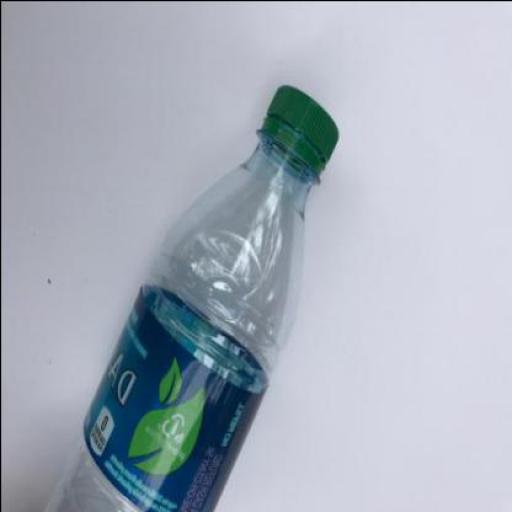plastic: (45, 84, 338, 510), (82, 283, 269, 511), (260, 83, 338, 184)
